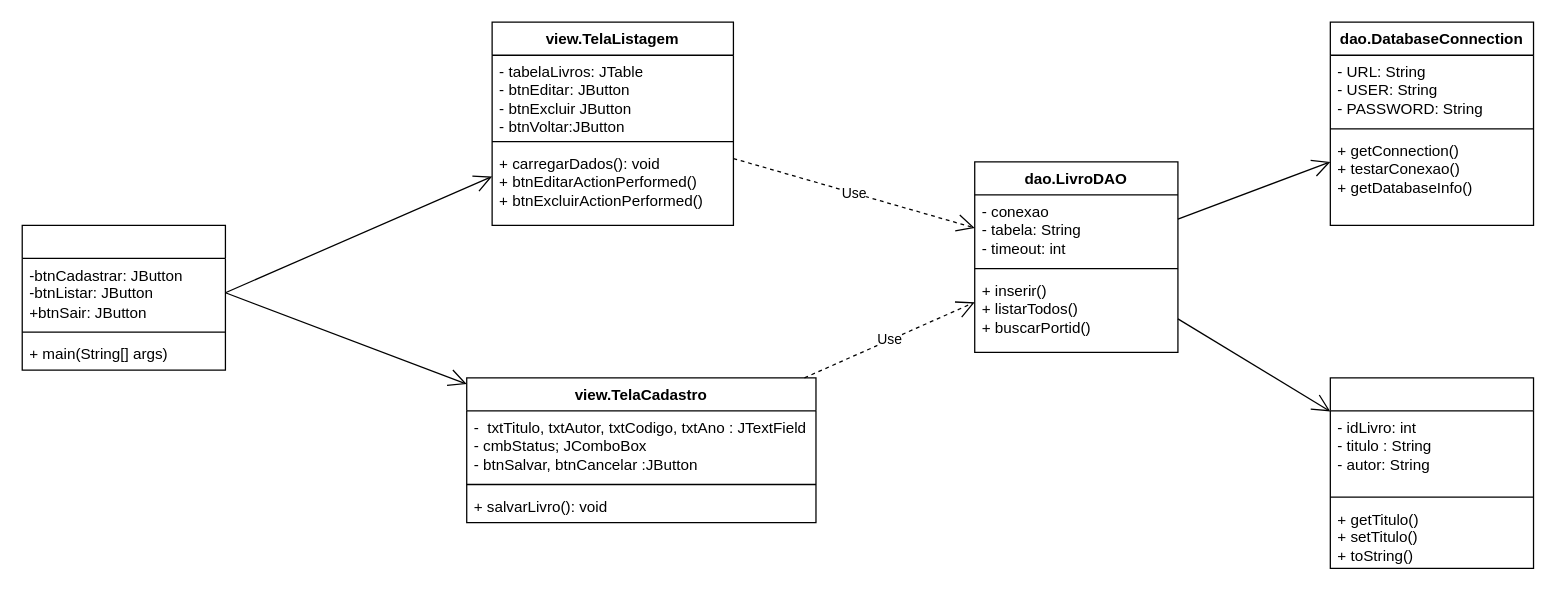
The diagram is 1556 pixels wide and 594 high, and some of its shapes have lost their labels. Each missing label, with the box of its shape:
model.Livro: (1329, 377, 1534, 568)
view.Tela: (21, 224, 225, 370)
